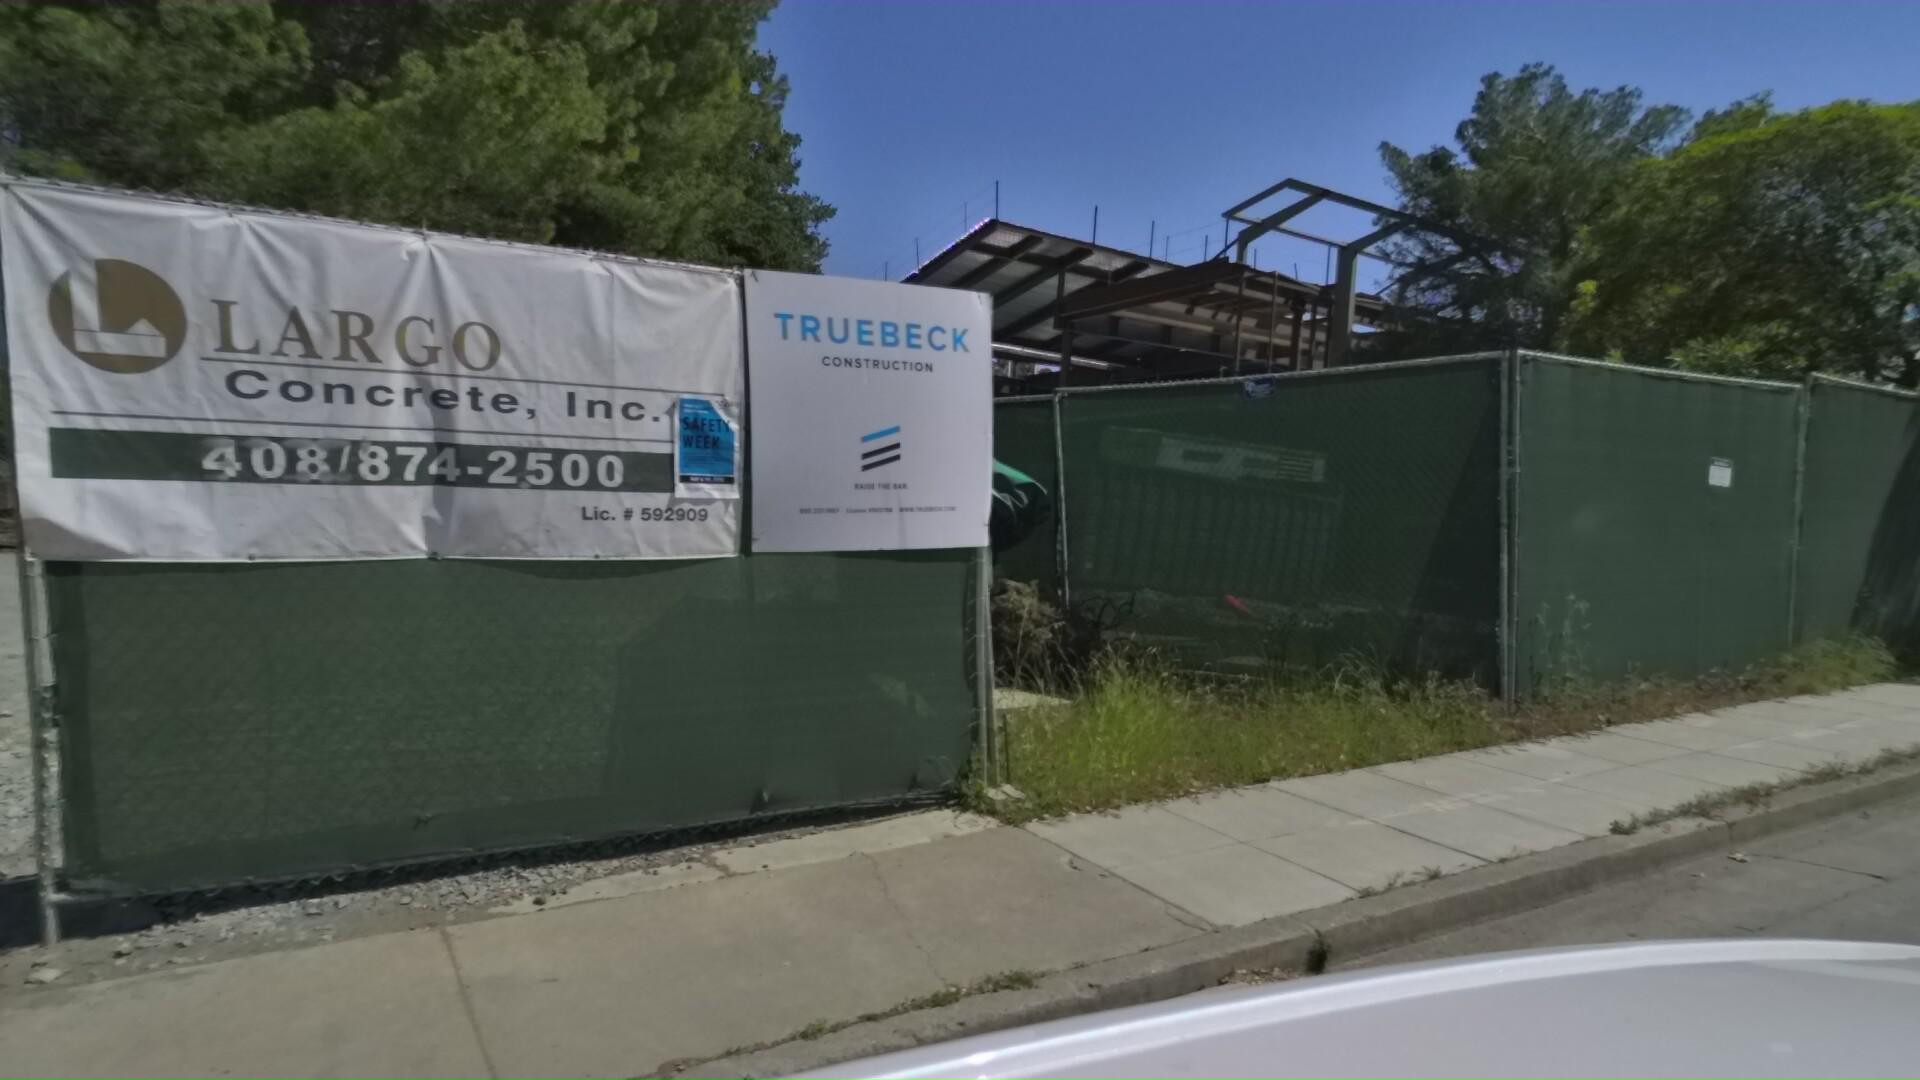car: (713, 439, 939, 543)
